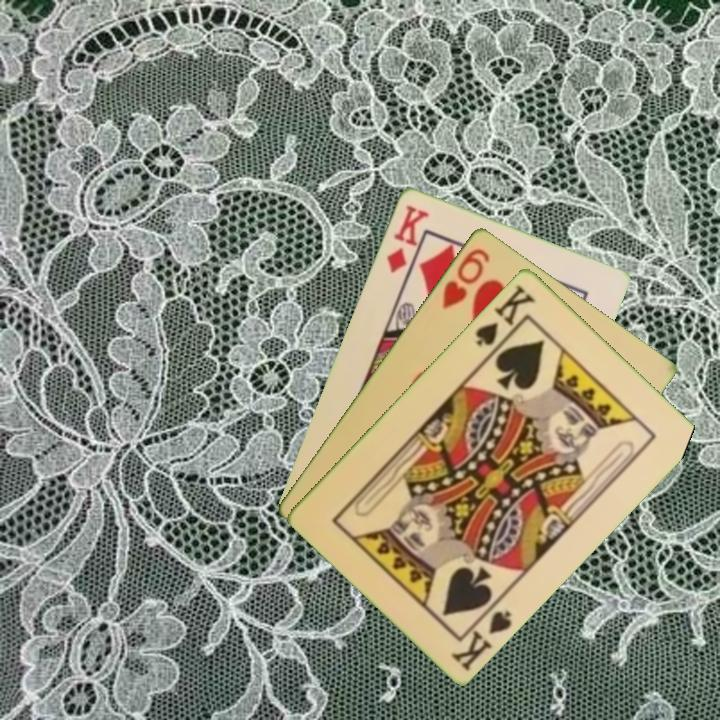6h: (438, 244, 493, 312)
Kd: (382, 201, 432, 276)
Ks: (447, 596, 515, 673), (472, 280, 538, 357)
